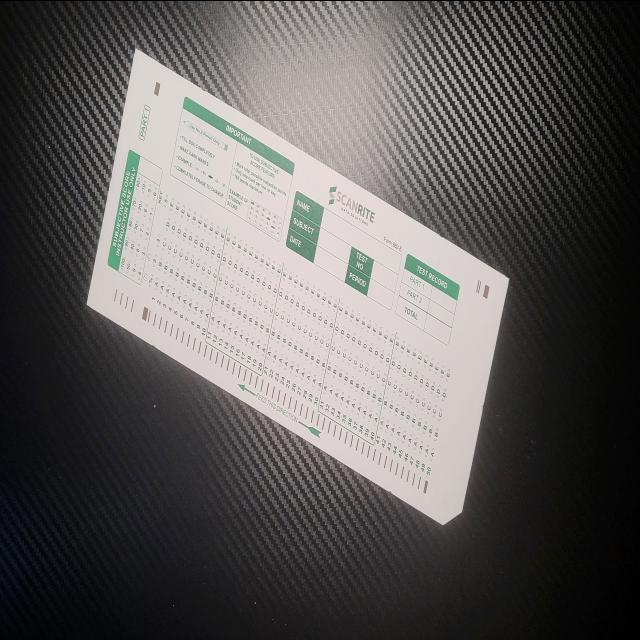scantron: (83, 46, 511, 529)
